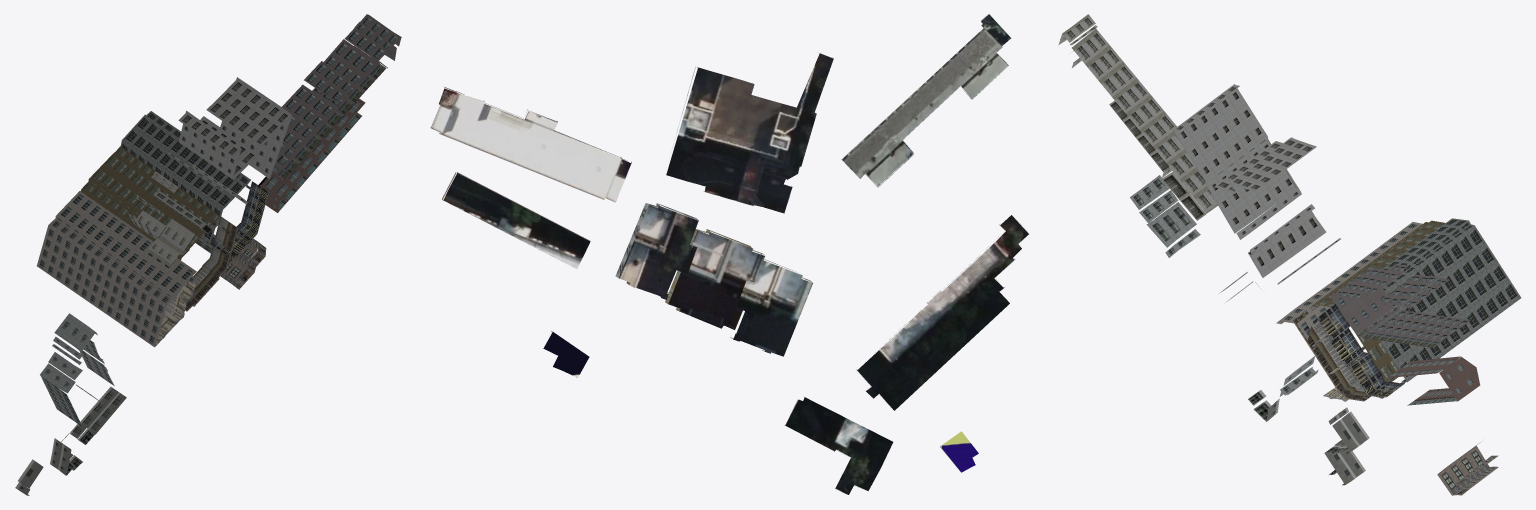
The model's file is tile_LOD4_r12_c8.glb.
3 views of the same model, side by side, from view 1: azimuth 30°, elevation 25°; view 2: azimuth 150°, elevation 25°; view 3: azimuth 270°, elevation 25° (orthographic). The views are drawn at different scales.
Size of the model in its own units: 165 by 134 by 124.
Materials: 46 (46 with a texture image).
